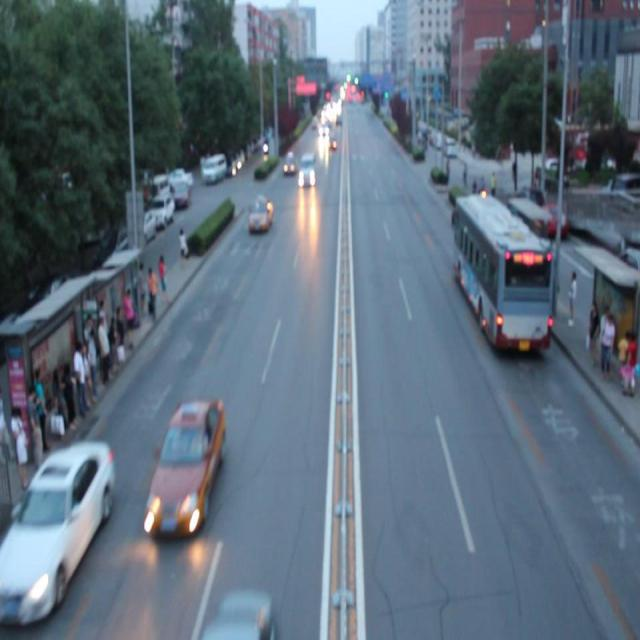car: (1, 442, 117, 622), (154, 393, 226, 541), (199, 583, 277, 640), (247, 186, 273, 238), (279, 146, 297, 178)
truck: (299, 152, 316, 194)
van: (452, 196, 549, 352)
